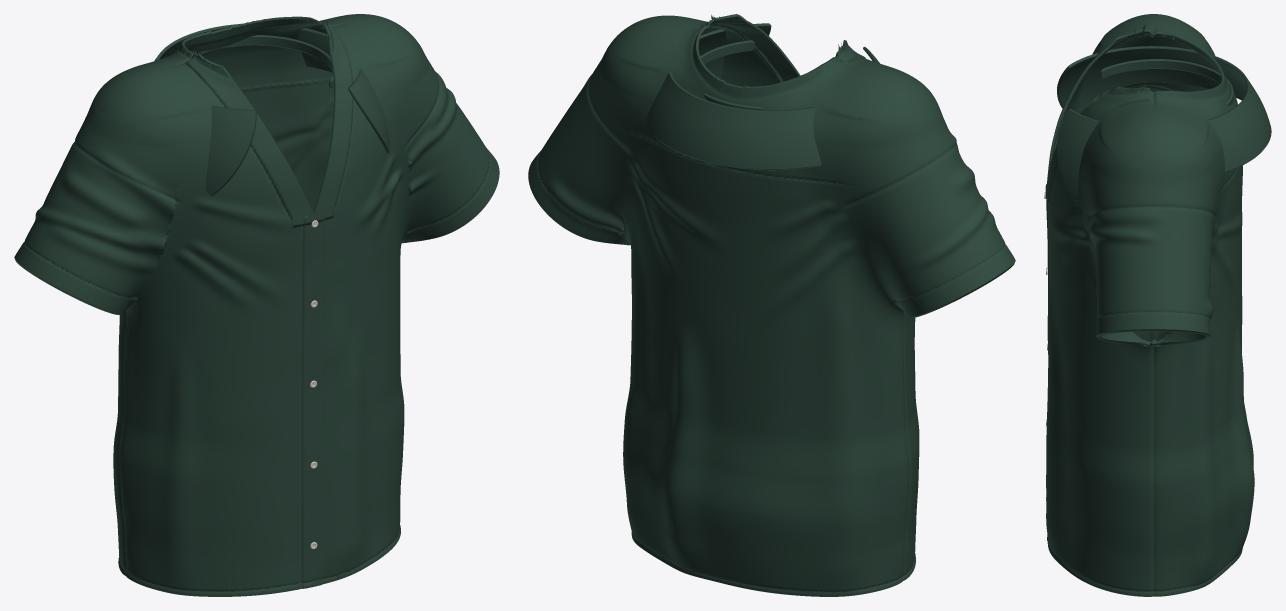
Rendered from 07_camisa_cubana.glb.
The picture shows the model from 3 angles, left to right: view 1: azimuth 30°, elevation 25°; view 2: azimuth 150°, elevation 25°; view 3: azimuth 270°, elevation 25°; orthographic projection. The views are drawn at different scales.
Parts seen in each view (by area): view 1: body; view 2: body; view 3: body.
Part boxes in pixels (bbox=[...]): body: bbox=[14, 14, 499, 596]; body: bbox=[528, 14, 1015, 596]; body: bbox=[1045, 14, 1271, 596].
Bounding box in the file's own units: 0.7311 × 0.7768 × 0.3283.
